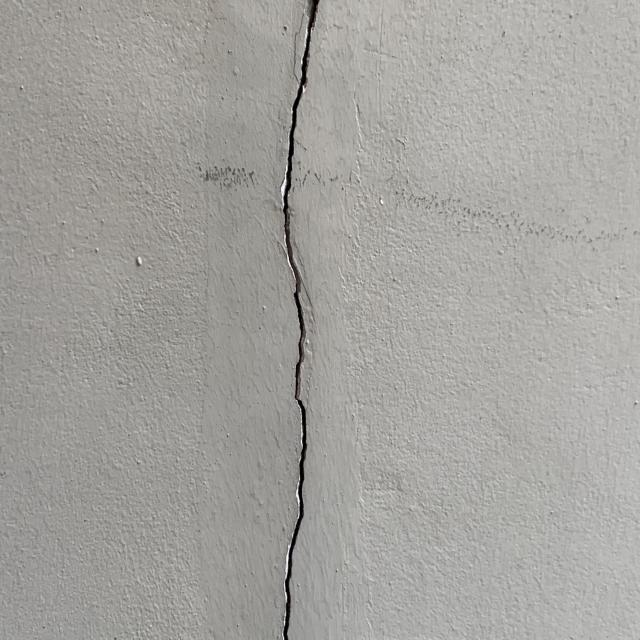SurfaceCrack: (226, 0, 373, 639)
